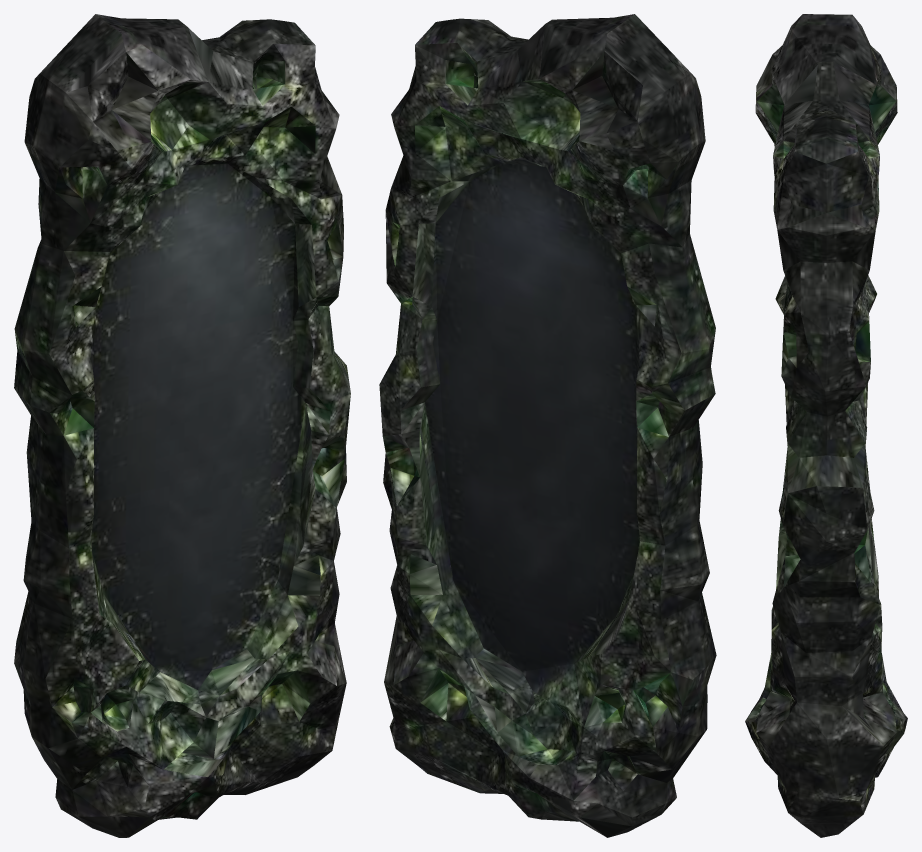
Rendered from glif-green.glb.
The picture shows the model from 3 angles, left to right: view 1: azimuth 30°, elevation 25°; view 2: azimuth 150°, elevation 25°; view 3: azimuth 270°, elevation 25°; orthographic projection. The views are drawn at different scales.
Parts seen in each view (by area): view 1: Mesh_0; view 2: Mesh_0; view 3: Mesh_0.
Part boxes in pixels (bbox=[...]): Mesh_0: bbox=[14, 14, 350, 837]; Mesh_0: bbox=[379, 14, 716, 837]; Mesh_0: bbox=[745, 14, 907, 837].
Bounding box in the file's own units: 0.8059 × 1.9 × 0.3795.
Materials: 1 (1 with a texture image).
